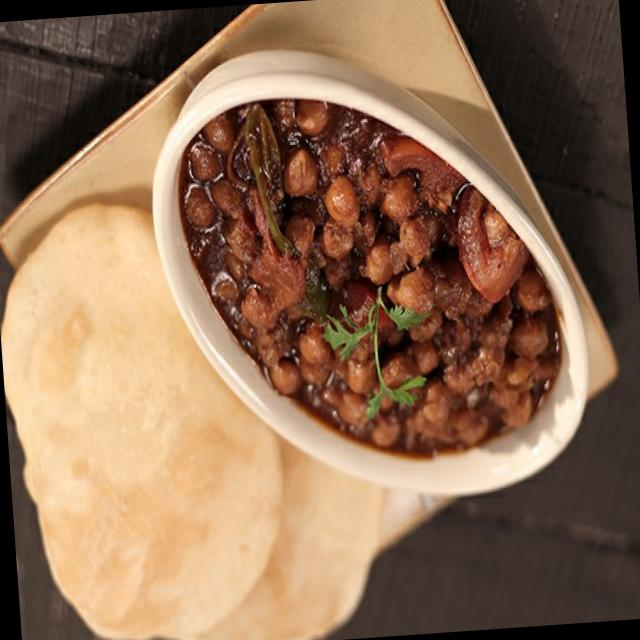Bhatura: (3, 202, 385, 640)
Chole: (175, 80, 562, 482)
